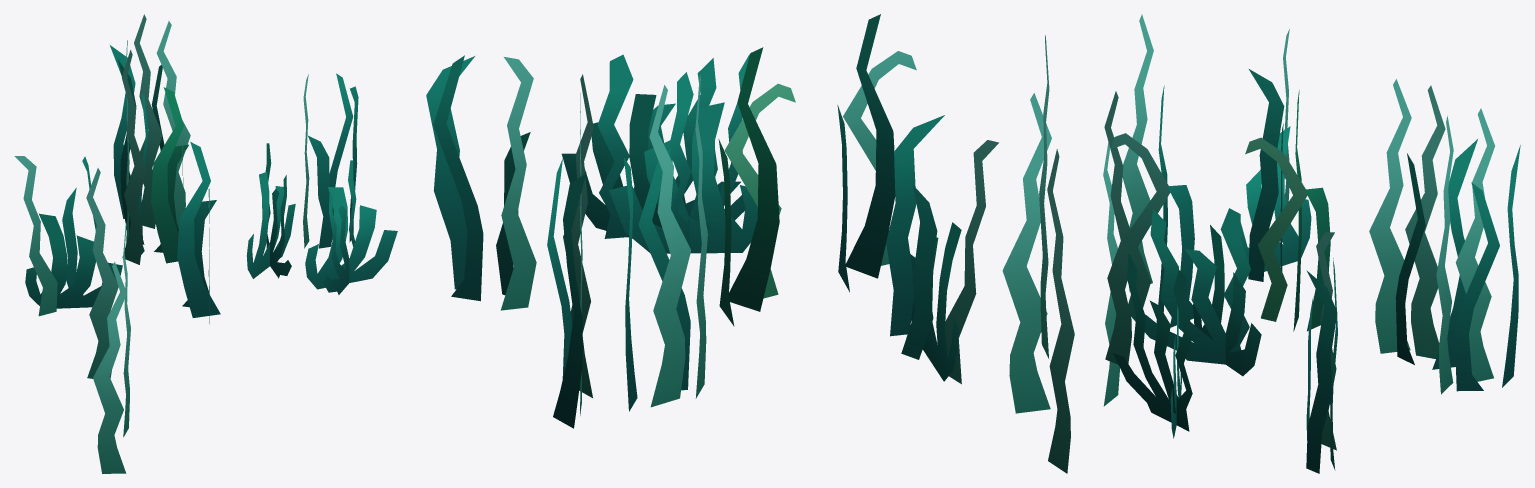
File: SeaGrass.fbx
3 views of the same model, side by side, from view 1: azimuth 30°, elevation 25°; view 2: azimuth 150°, elevation 25°; view 3: azimuth 270°, elevation 25° (orthographic). The views are drawn at different scales.
Parts seen in each view (by area): view 1: Line110; view 2: Line110; view 3: Line110.
Part boxes in pixels (left/top/right/bottom): Line110: left=14, top=14, right=397, bottom=473; Line110: left=426, top=14, right=1074, bottom=473; Line110: left=1103, top=14, right=1520, bottom=473.
Size of the model in its own units: 2.37 by 1.94 by 1.83.
Materials: 2 (2 with a texture image).
